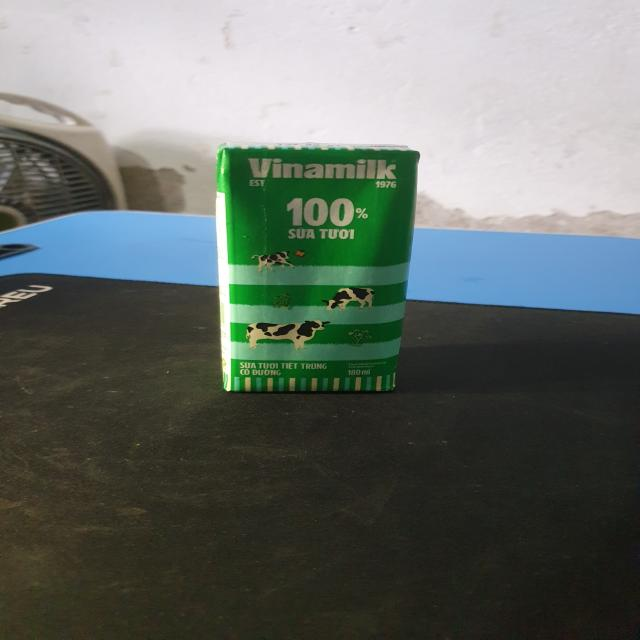Vina: (209, 139, 427, 396)
